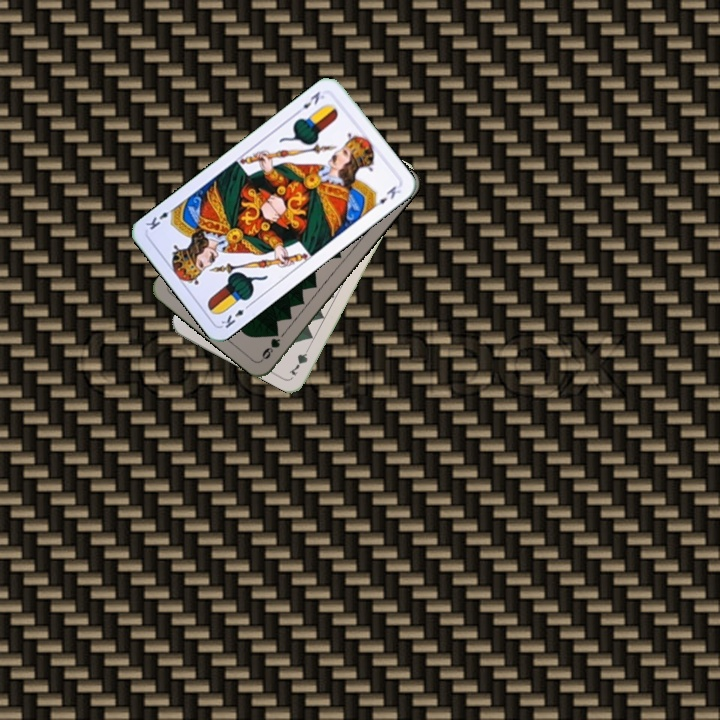EK: (217, 299, 254, 331), (292, 87, 327, 117)
G7: (285, 341, 314, 379)
G9: (258, 334, 283, 363)
